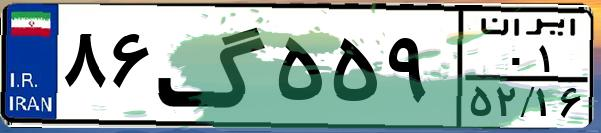0: (508, 27, 537, 80)
1: (537, 27, 568, 80), (535, 70, 560, 125)
2: (495, 70, 520, 125)
5: (270, 28, 330, 110), (330, 28, 385, 110), (470, 70, 495, 125)
6: (110, 28, 156, 98), (560, 70, 590, 125)
8: (57, 26, 110, 100)
9: (385, 28, 445, 110)
گ: (156, 12, 270, 120)
